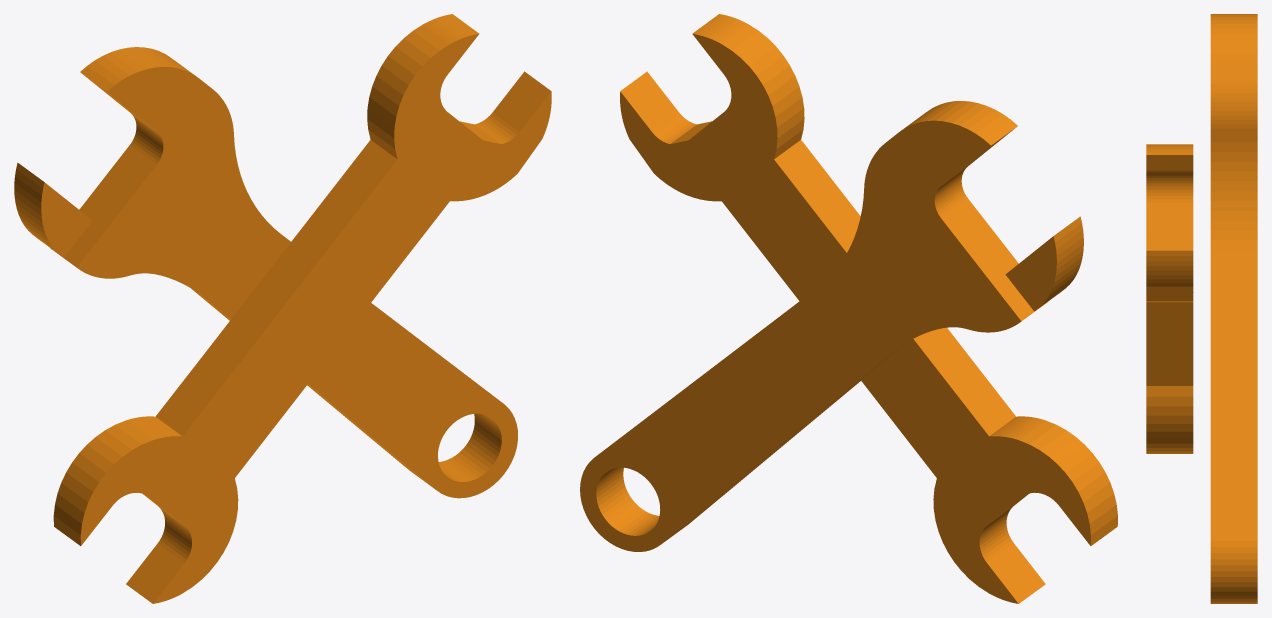
The model's file is INCONOGRAPHY_support_v6.glb.
3 views of the same model, side by side, from view 1: azimuth 30°, elevation 25°; view 2: azimuth 150°, elevation 25°; view 3: azimuth 270°, elevation 25° (orthographic). The views are drawn at different scales.
Parts seen in each view (by area): view 1: spanner, spanner_3; view 2: spanner, spanner_3; view 3: spanner.
Part boxes in pixels (left/top/right/bottom): spanner: left=50, top=14, right=551, bottom=603; spanner_3: left=14, top=162, right=92, bottom=257; spanner: left=580, top=14, right=1117, bottom=603; spanner_3: left=1005, top=216, right=1083, bottom=311; spanner: left=1146, top=14, right=1257, bottom=603.
Size of what is drawn, in the model's own units: 0.9275 by 0.9418 by 0.2149.
